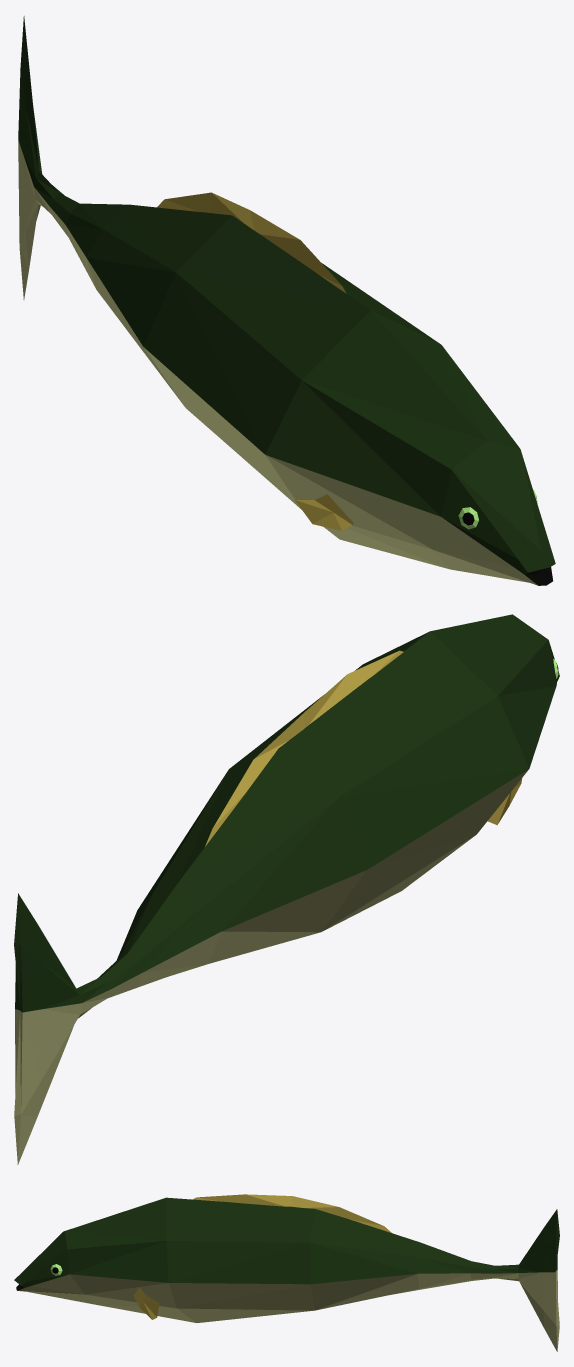
File: Minnow_000013.obj
The picture shows the model from 3 angles, top to bottom: view 1: azimuth 30°, elevation 25°; view 2: azimuth 150°, elevation 25°; view 3: azimuth 270°, elevation 25°; orthographic projection. The views are drawn at different scales.
Bounding box in the file's own units: 0.709 × 0.9146 × 3.03.
